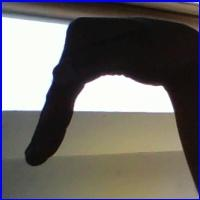A: (19, 12, 182, 174)
